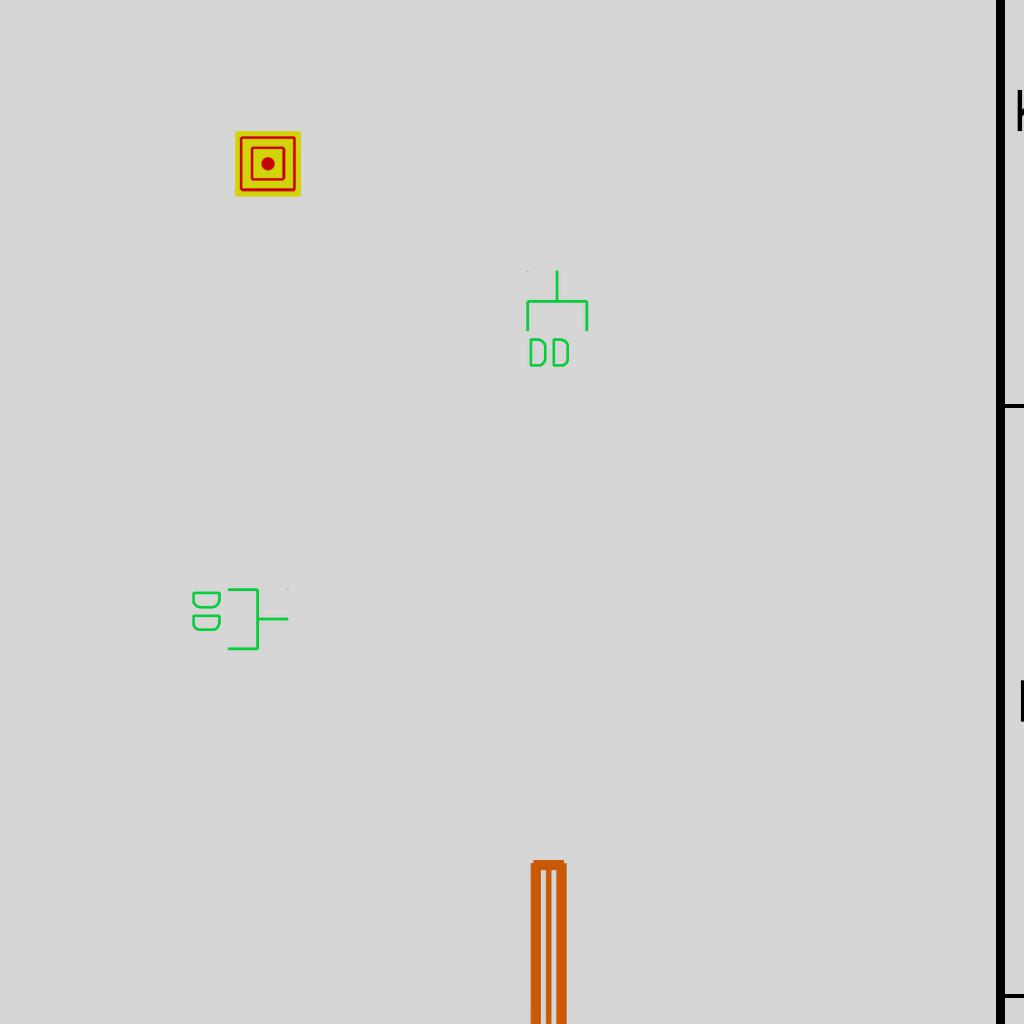Ambulanz_Pendelleuchte_LED: (518, 849, 630, 1024)
Datenanschluss_zweifach: (188, 584, 291, 653), (522, 268, 591, 371)
NAM-Nichtautomatischer_Melder: (235, 131, 301, 197)
